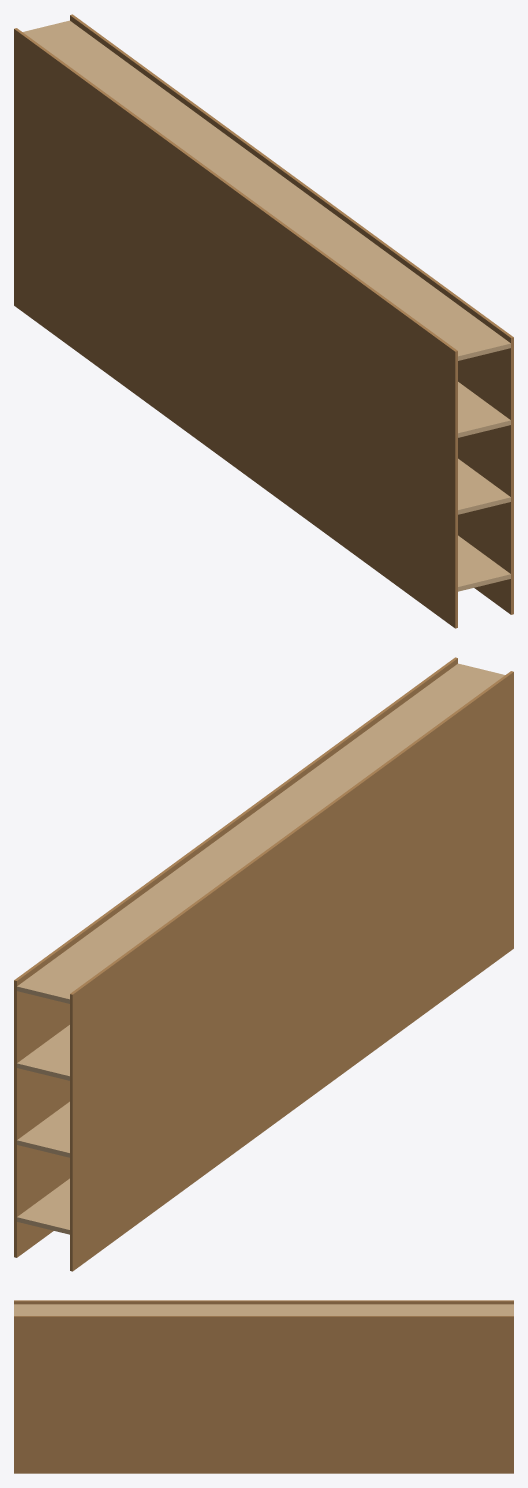
The picture shows the model from 3 angles, top to bottom: view 1: azimuth 30°, elevation 25°; view 2: azimuth 150°, elevation 25°; view 3: azimuth 270°, elevation 25°; orthographic projection. The views are drawn at different scales.
Visible parts, largest first — view 1: expositor_este; view 2: expositor_este; view 3: expositor_este.
Part boxes in pixels (x1,y1,x2,y2): expositor_este: (14, 14, 513, 628); expositor_este: (14, 657, 513, 1271); expositor_este: (14, 1300, 513, 1473).
Bounding box in the file's own units: 0.4 × 5.2 × 1.8.
